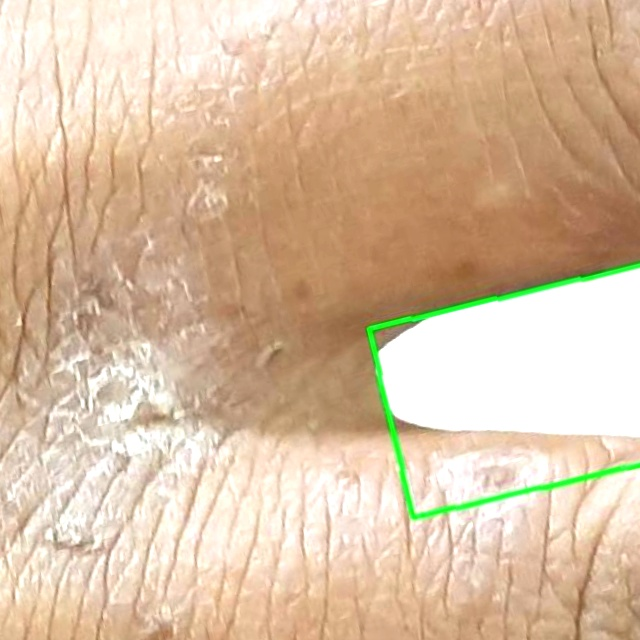Scabies: (368, 266, 639, 518)
